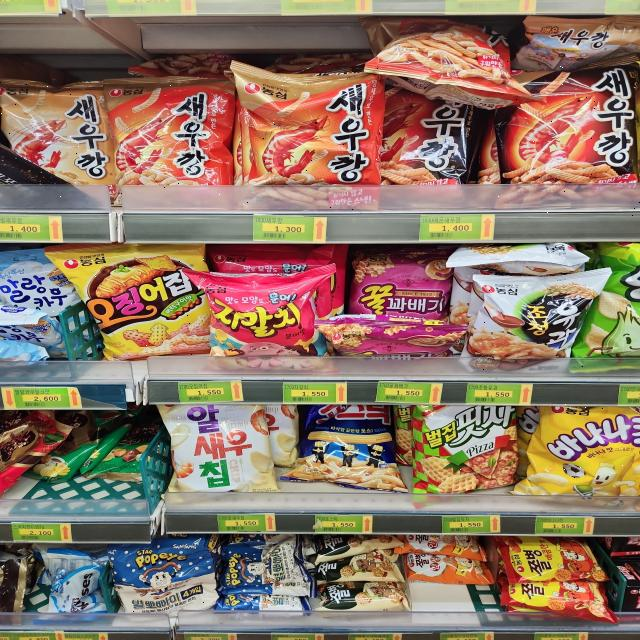product: (492, 60, 640, 216), (232, 63, 382, 210), (49, 249, 220, 363), (108, 79, 233, 212), (197, 271, 328, 385), (0, 77, 105, 201), (521, 400, 640, 507), (154, 400, 279, 494), (475, 278, 587, 380), (412, 396, 517, 496), (103, 538, 222, 622), (347, 246, 457, 327), (360, 280, 450, 324), (546, 423, 640, 461), (506, 543, 609, 577)
